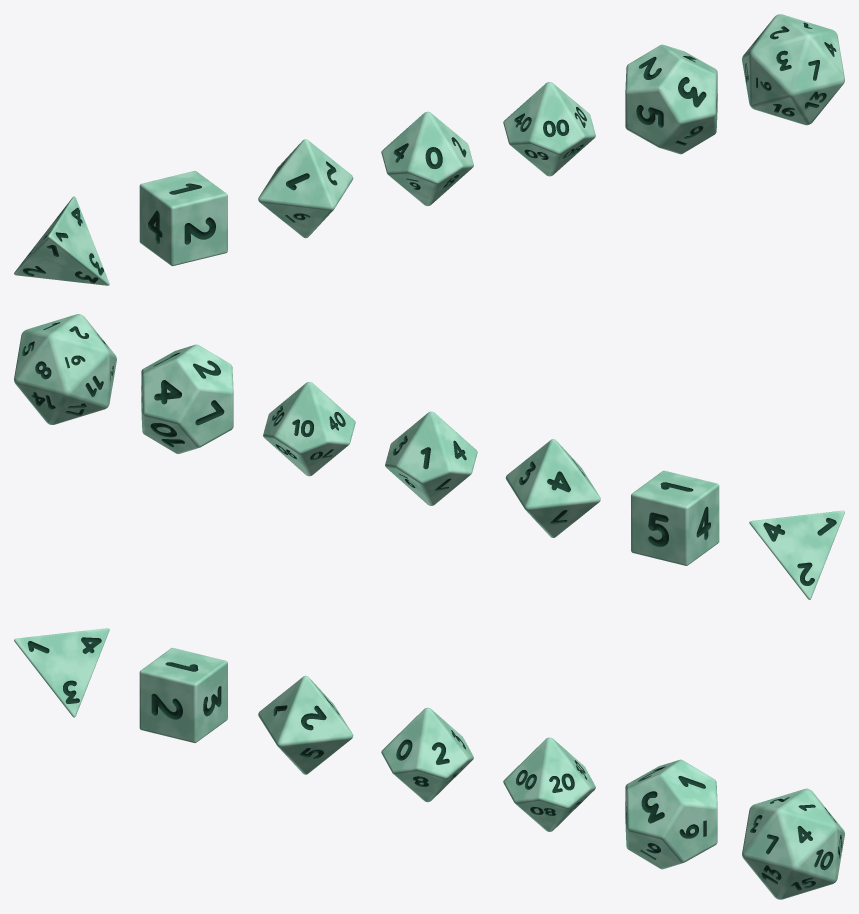
Rendered from mint.glb.
The picture shows the model from 3 angles, top to bottom: view 1: azimuth 30°, elevation 25°; view 2: azimuth 150°, elevation 25°; view 3: azimuth 330°, elevation 25°; orthographic projection.
Visible parts, largest first — view 1: d20, d12, d6, d100, d10, d8, d4; view 2: d20, d12, d6, d100, d10, d8, d4; view 3: d20, d12, d6, d8, d10, d100, d4.
Part boxes in pixels (x1,y1,x2,y2): d20: (742,14,844,125); d12: (625,44,717,154); d6: (139,171,227,266); d100: (503,82,595,176); d10: (381,111,473,206); d8: (258,139,353,238); d4: (14,196,109,285); d20: (14,314,116,424); d12: (141,344,233,453); d6: (631,470,719,565); d100: (263,382,355,476); d10: (385,411,477,505); d8: (505,439,600,537); d4: (749,510,844,599); d20: (742,788,844,899); d12: (625,759,717,869); d6: (139,647,227,742); d8: (258,675,353,774); d10: (381,707,473,802); d100: (503,737,595,831); d4: (14,628,109,717).
Size of the model in its own units: 21.14 by 2.47 by 2.47.
14 materials, 7 textured.
